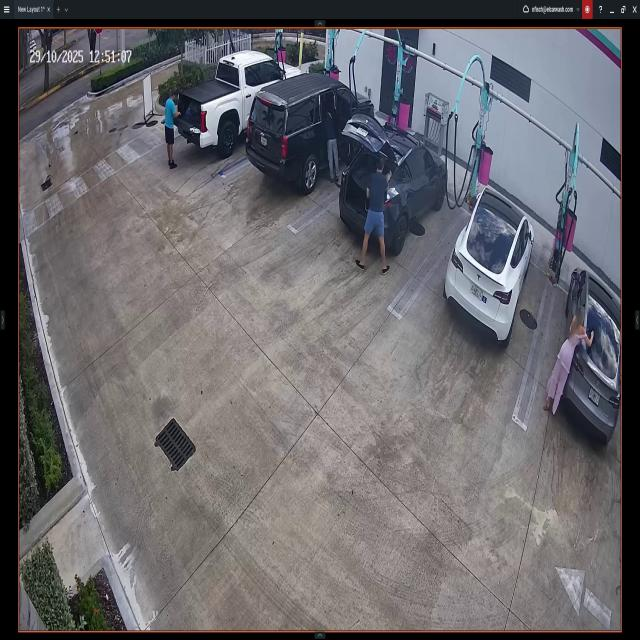Car: (339, 113, 446, 254), (247, 71, 373, 189), (174, 43, 305, 152), (447, 190, 534, 340), (561, 267, 622, 441)
